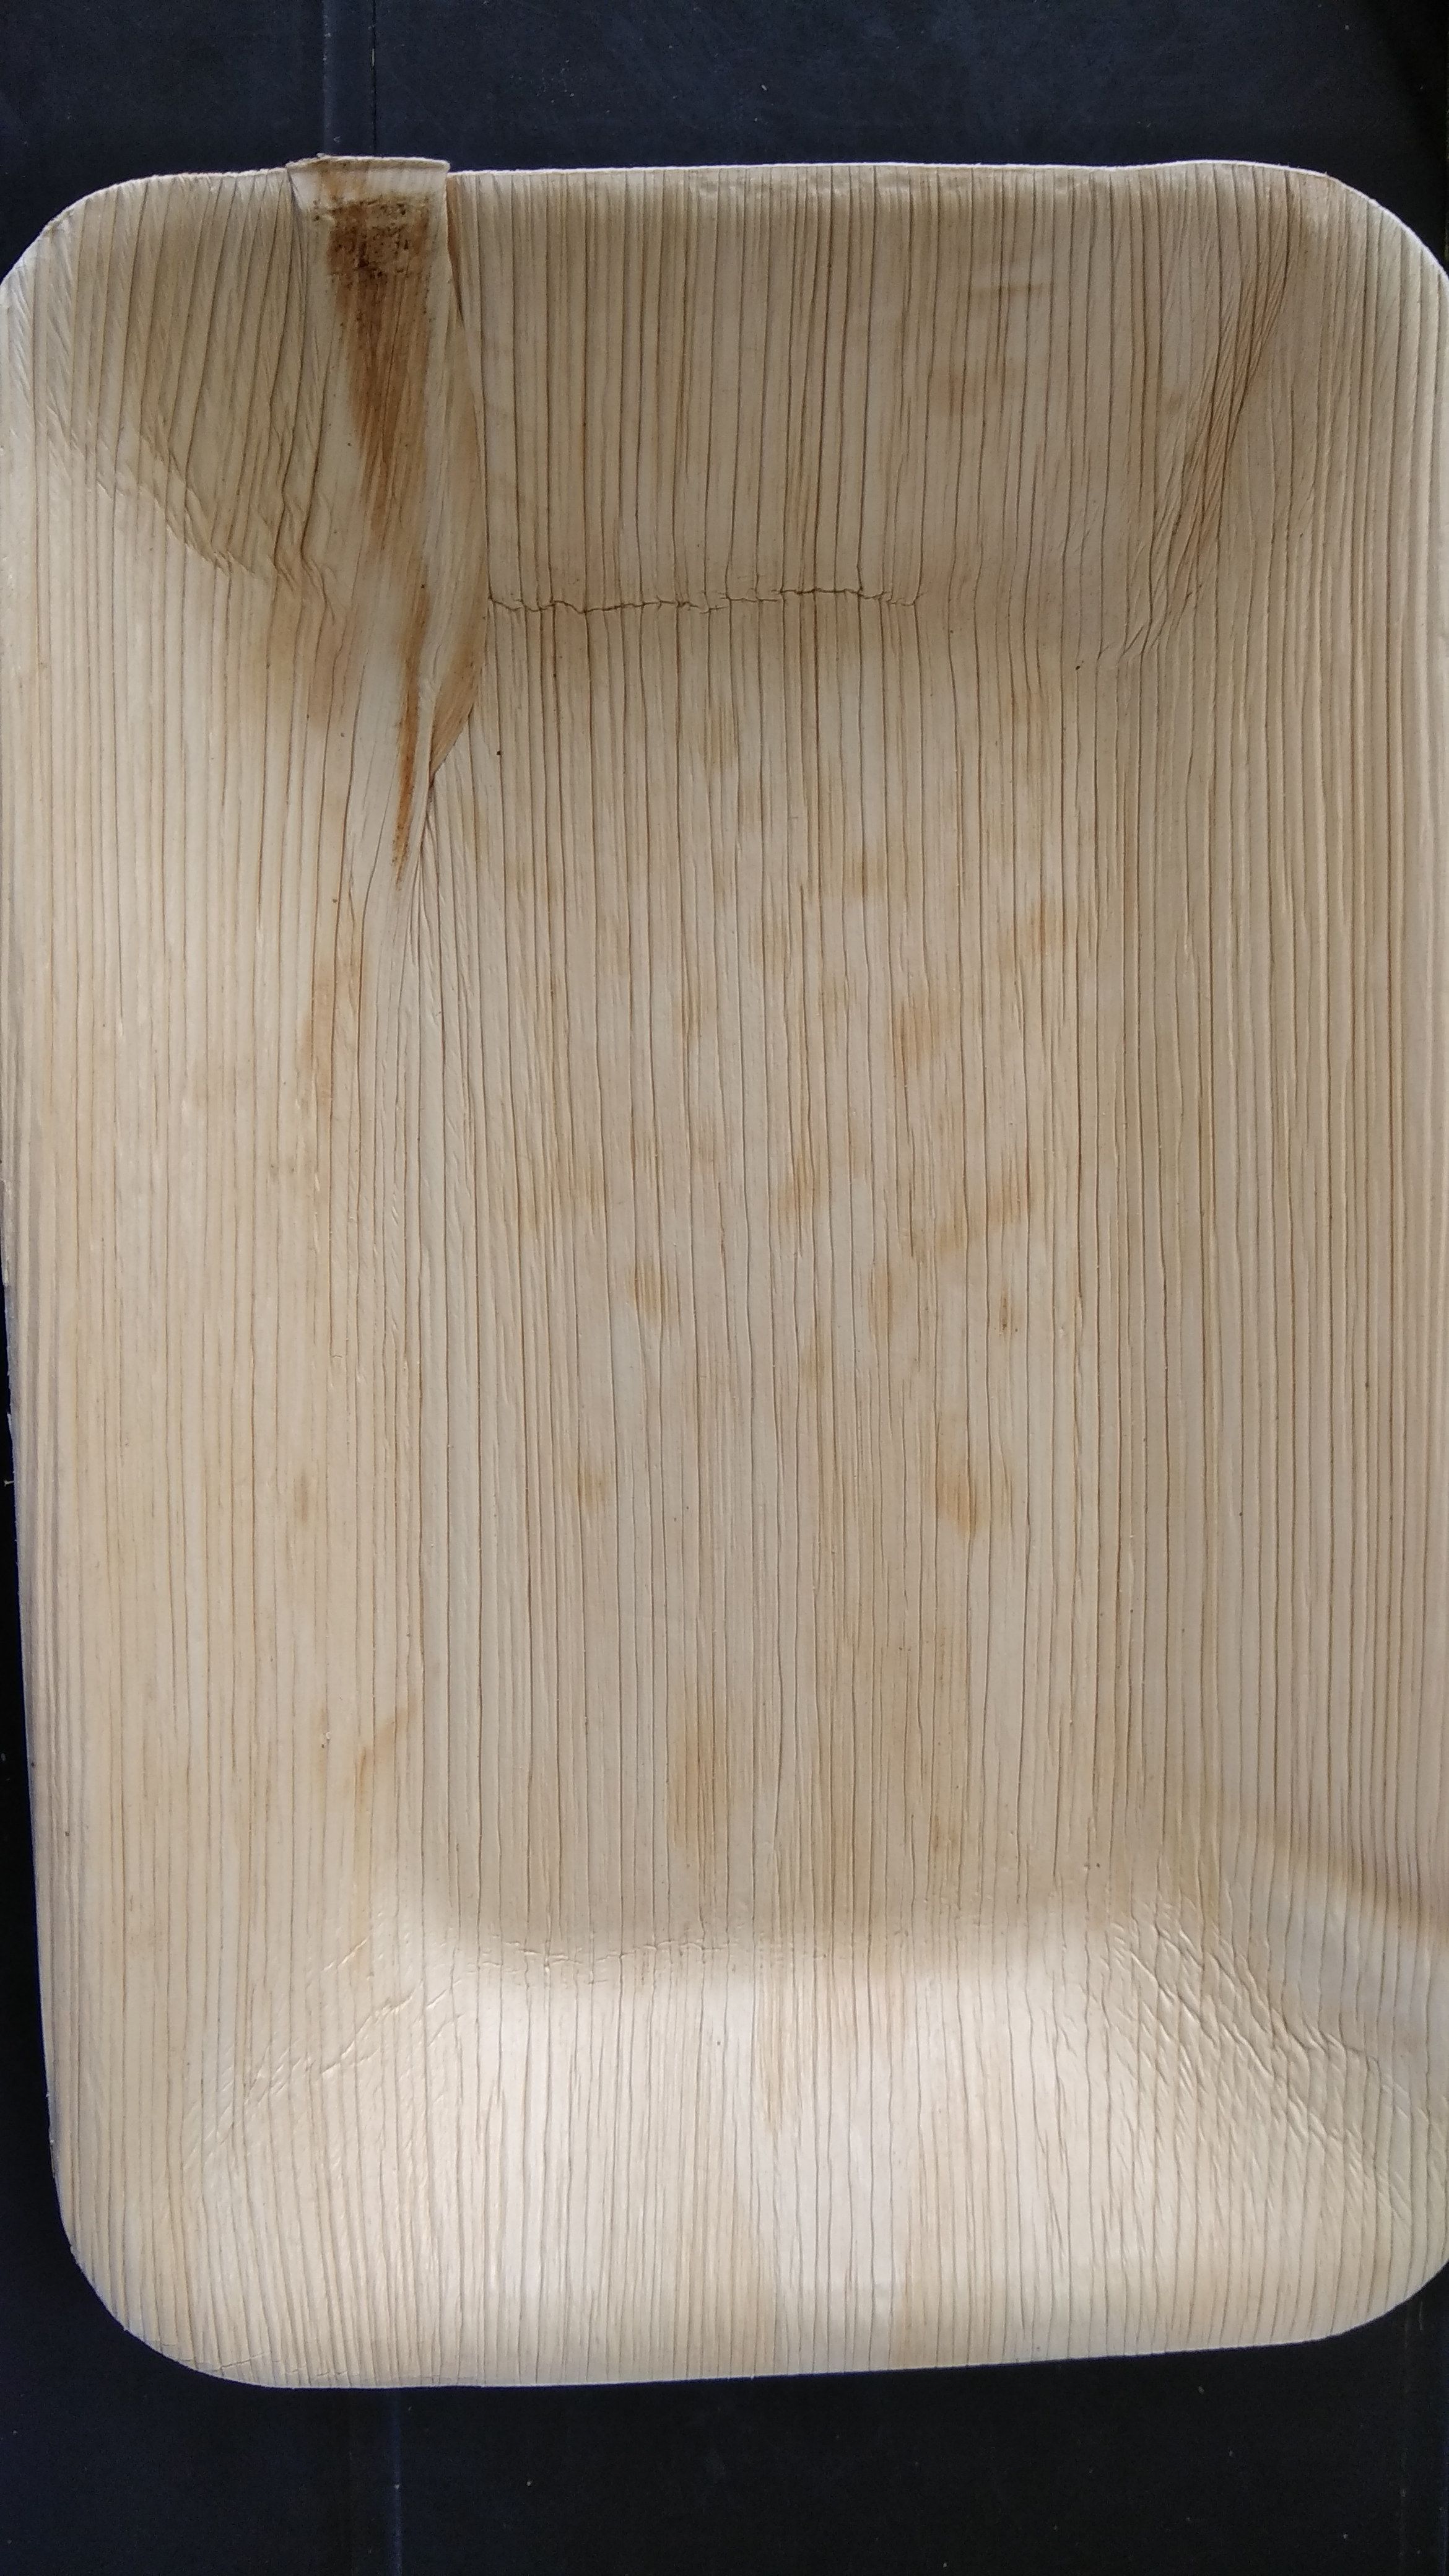areca plate: (58, 165, 1449, 2360)
